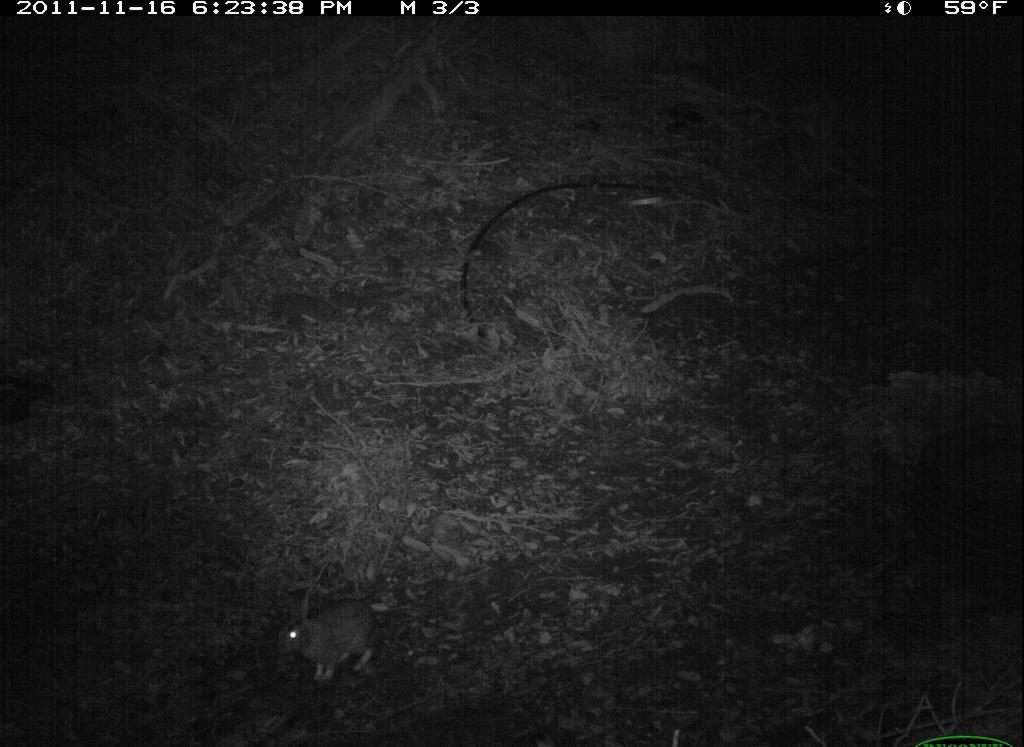rabbit: (265, 592, 383, 690)
